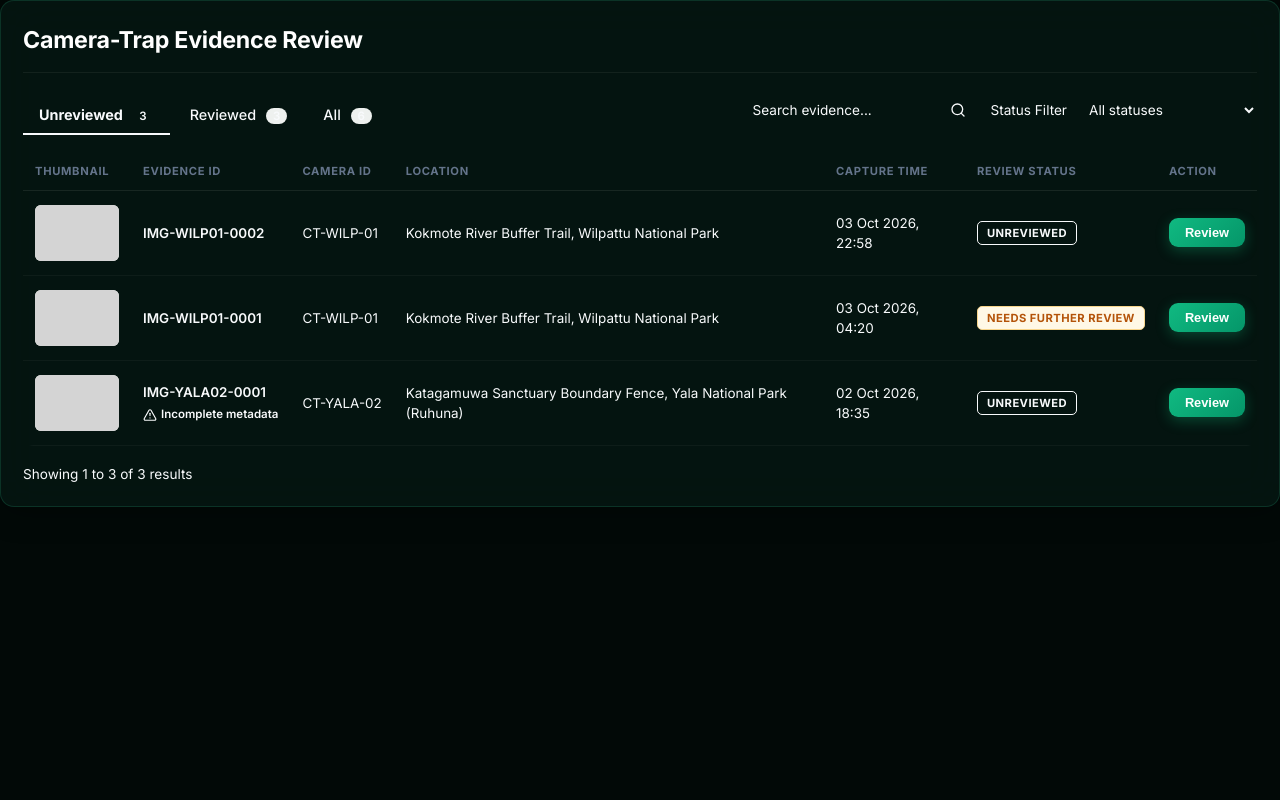
Scenario: EvidenceReviewQueue › All tab lists every evidence item across pages
Click the tab "All 6" at point(348, 115), box [307,96,388,135]
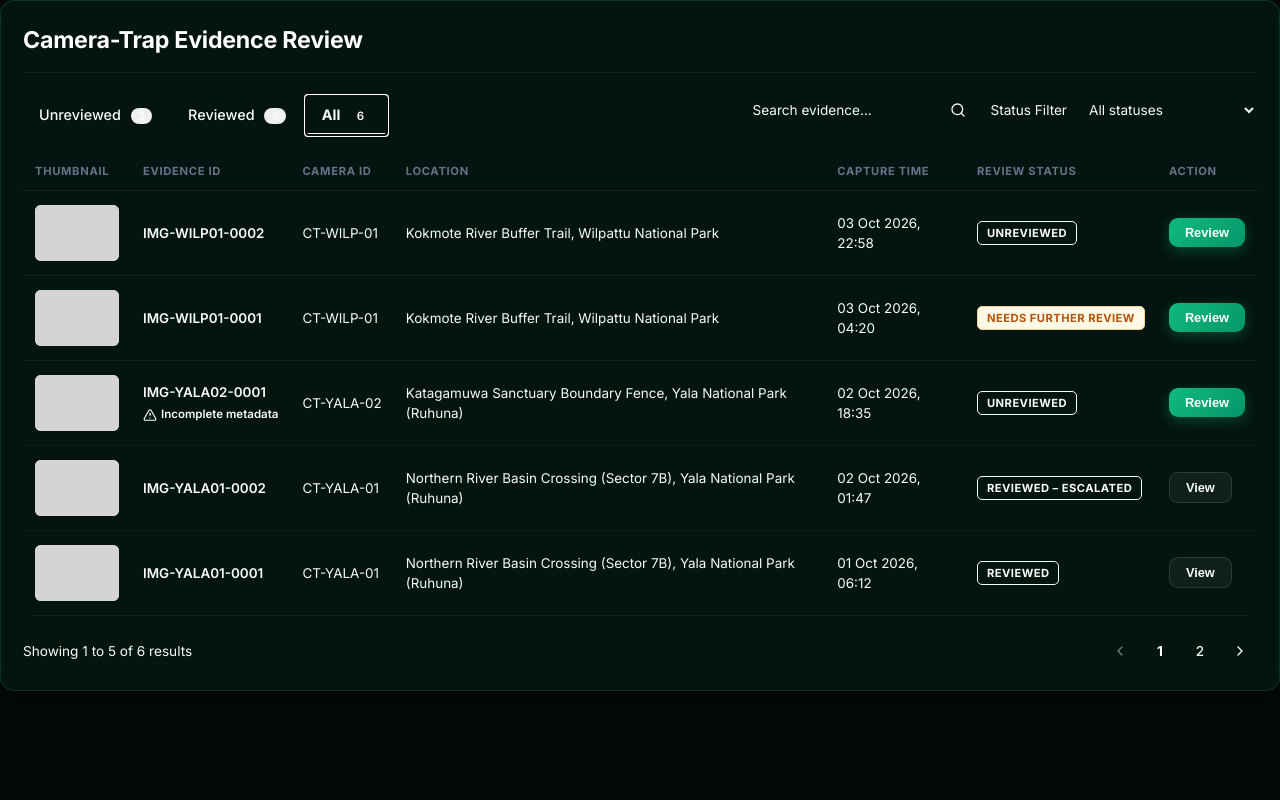
Expected: the text "Showing 1 to 5 of 6 results" is shown, [23,641,192,661]
Click the button named "Next page" at point(1240, 651), box [1223,634,1257,668]
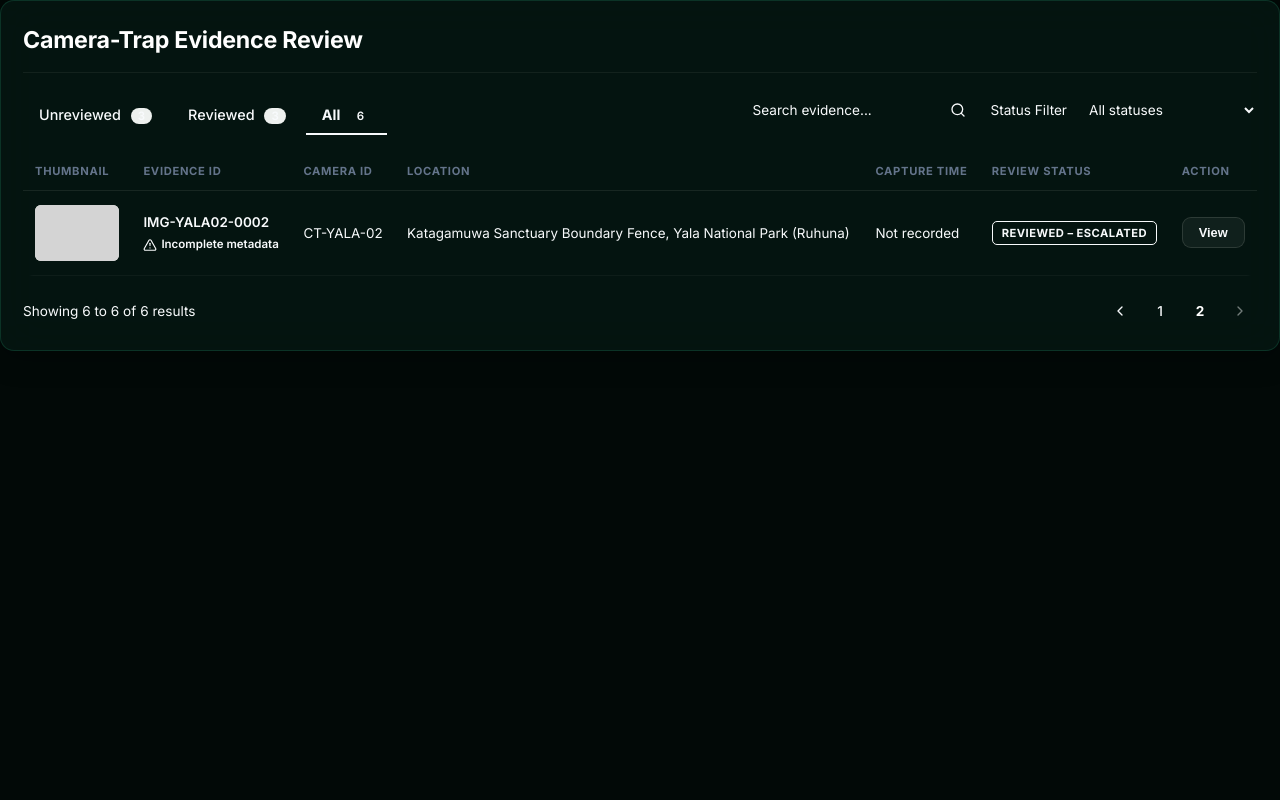
Expected: the text "Showing 6 to 6 of 6 results" is shown, [23,301,195,321]
